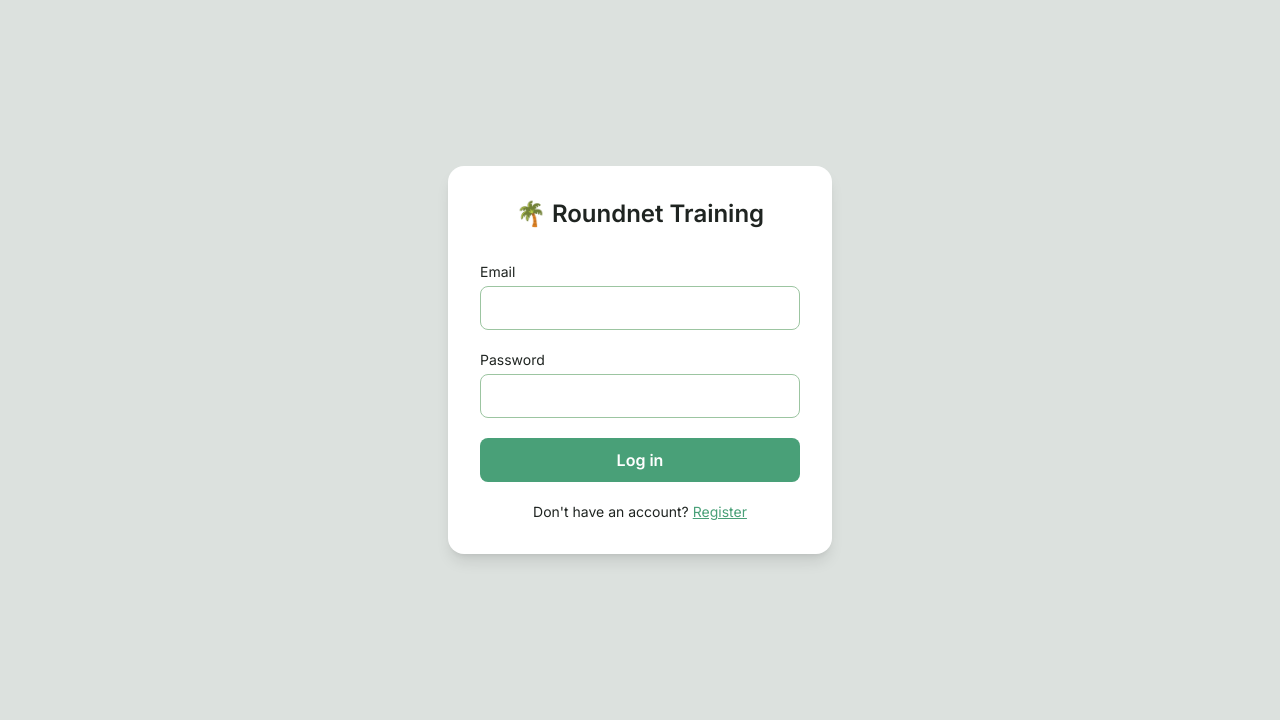
login flow › shows nickname in welcome message after successful login
Type "u@example.com" into the field labelled "Email" at (640, 308), box top-left (480, 286), bottom-right (800, 330)
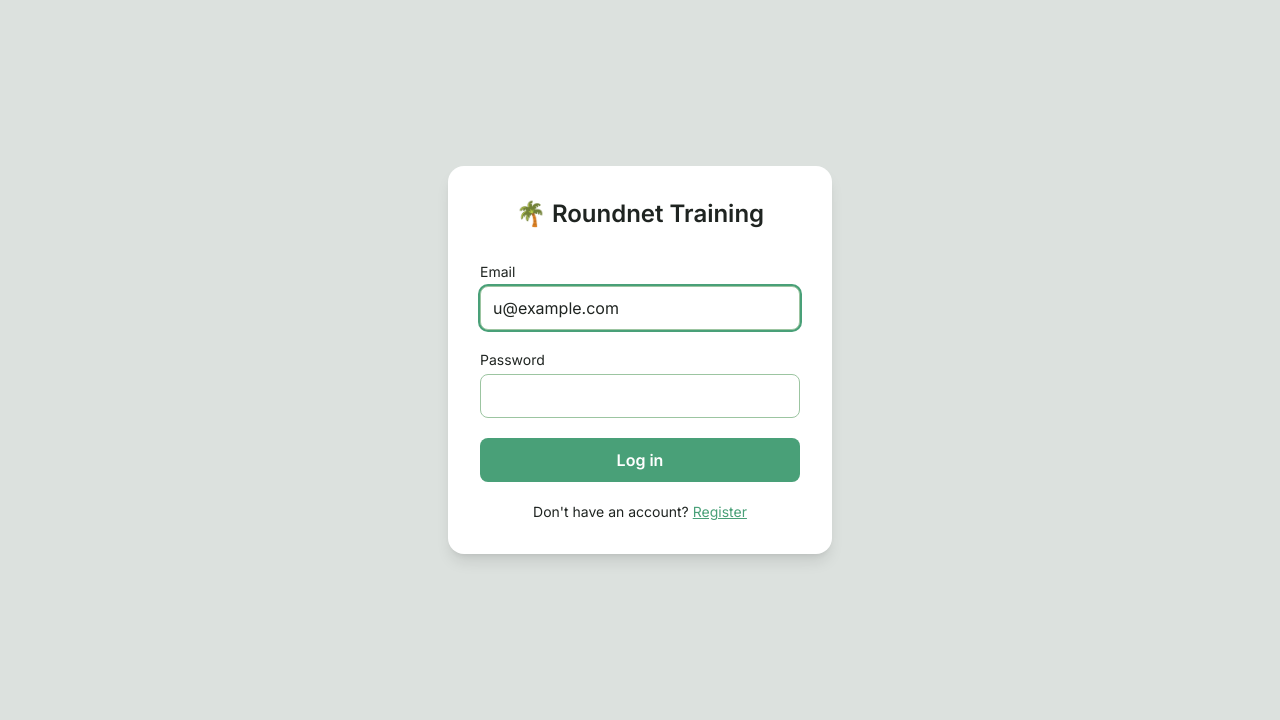
Type "secret" into the password field labelled "Password" at (640, 396), box top-left (480, 374), bottom-right (800, 418)
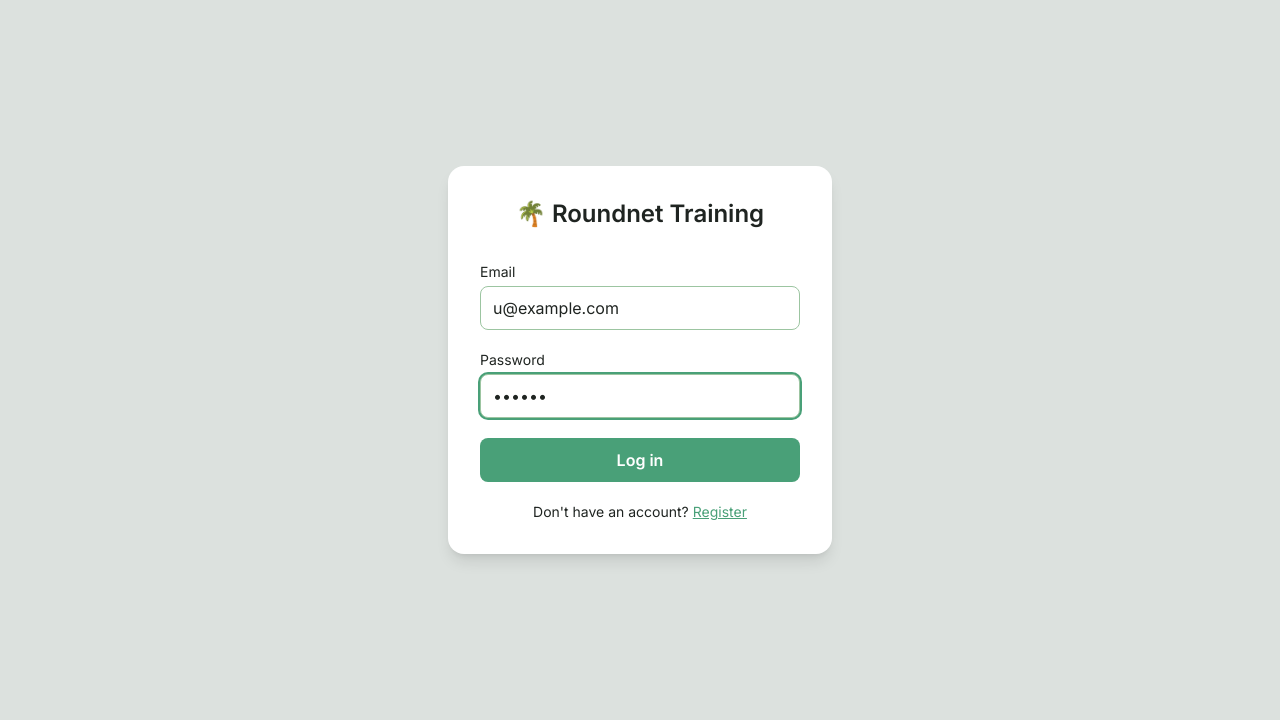
Click the button "Log in" at (640, 460), box top-left (480, 438), bottom-right (800, 482)
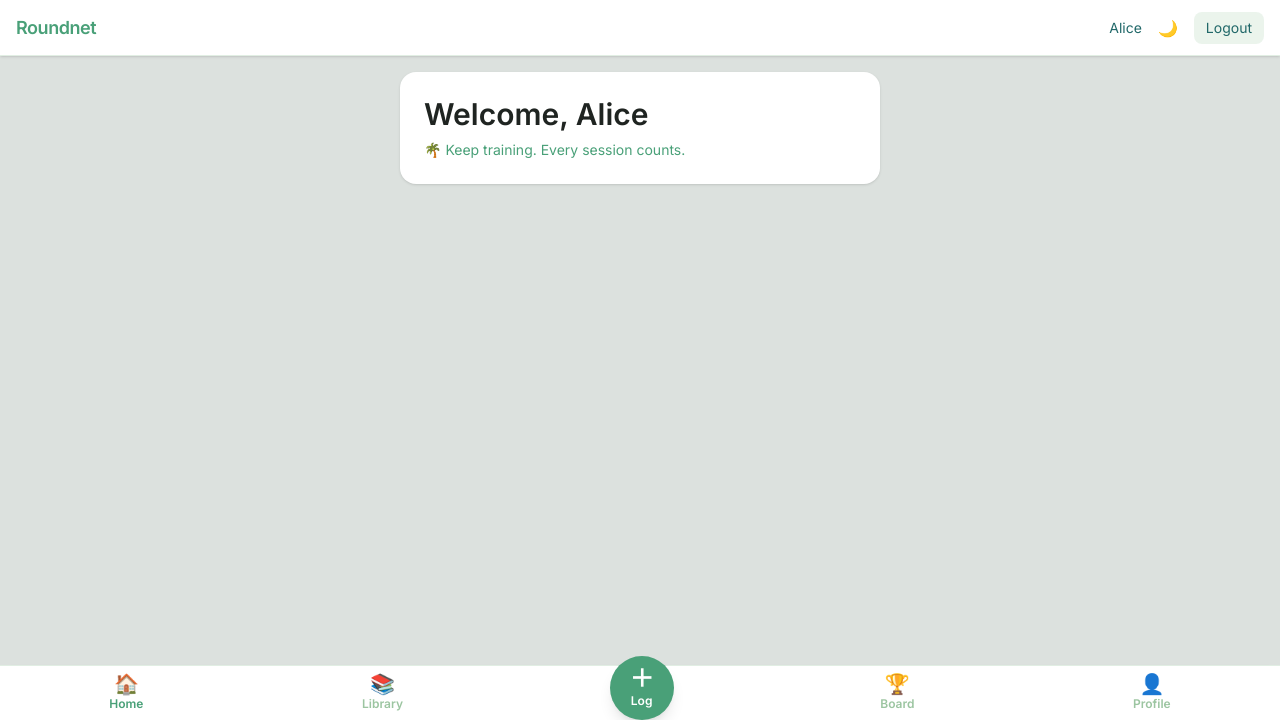
Expected: the text "Welcome, Alice" is shown, top-left (424, 96), bottom-right (648, 132)
